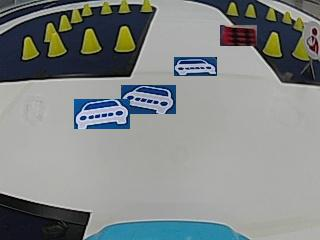cone: (114, 25, 135, 52), (80, 28, 101, 54), (47, 29, 66, 56), (263, 32, 282, 57), (292, 34, 310, 60), (21, 36, 39, 59), (59, 14, 72, 30), (139, 0, 152, 13), (226, 2, 239, 15), (118, 0, 130, 13), (100, 1, 112, 14), (71, 8, 82, 22), (265, 7, 276, 21), (245, 4, 256, 17), (293, 16, 303, 30), (82, 3, 92, 16), (282, 11, 291, 23)
patient: (306, 25, 319, 61)
